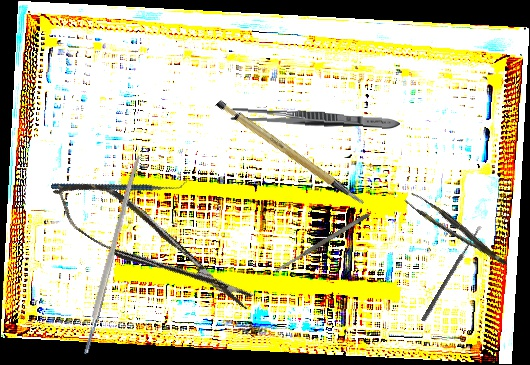Chopper: (50, 137, 188, 231)
Dressing Forceps: (229, 106, 401, 132)
Micro Scissor: (42, 162, 263, 332)
Scalpel Handle: (213, 81, 366, 227), (79, 153, 143, 358)
Spatula Surgical: (272, 211, 371, 275)
Surgical Spoon: (420, 224, 483, 323)
Tissue Forceps: (403, 185, 508, 278)
